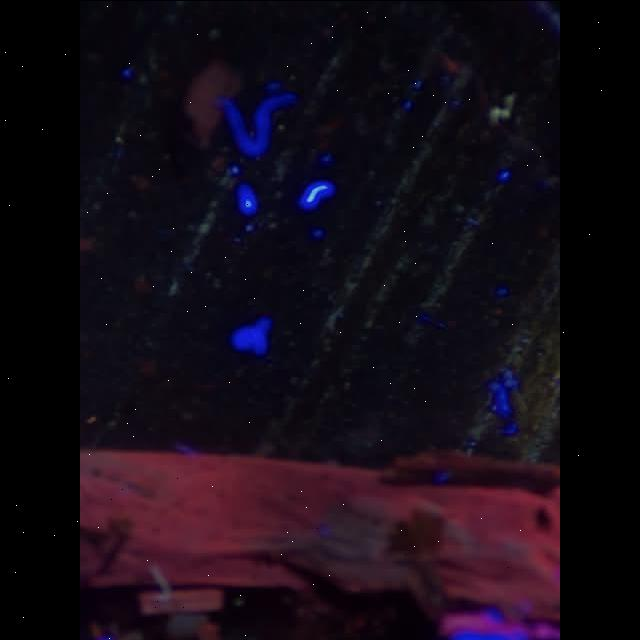Fibre: (489, 94, 516, 126)
